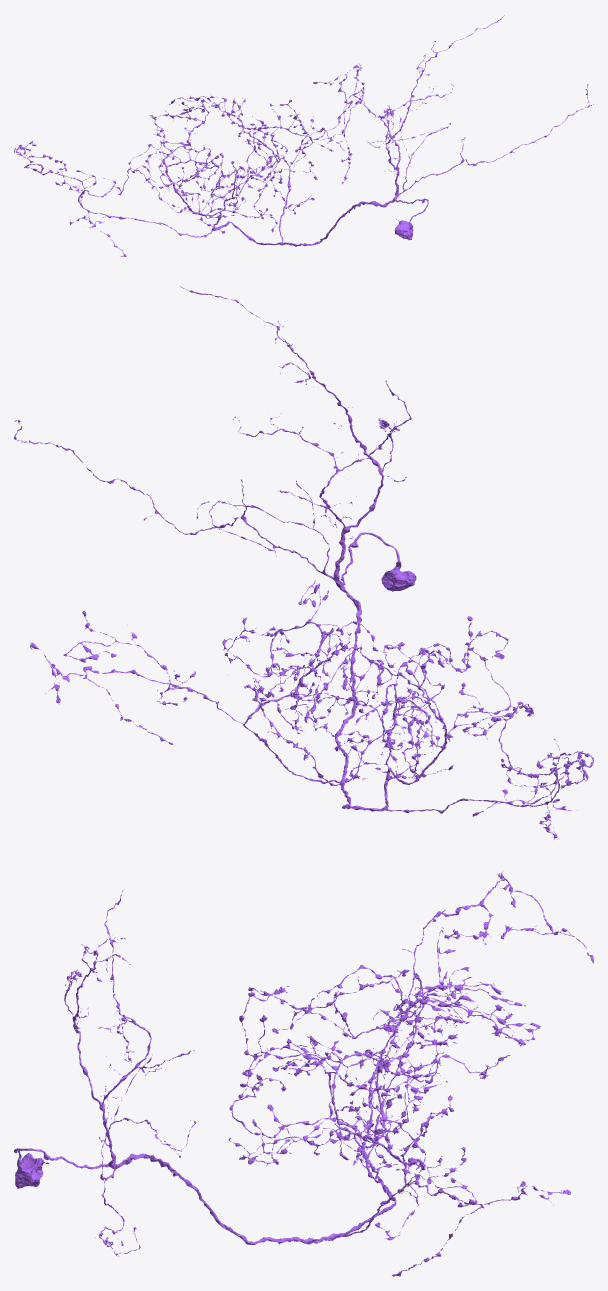
Rendered from VFB_fw036190.glb.
The picture shows the model from 3 angles, top to bottom: view 1: azimuth 30°, elevation 25°; view 2: azimuth 150°, elevation 25°; view 3: azimuth 270°, elevation 25°; orthographic projection. The views are drawn at different scales.
Visible parts, largest first — view 1: VFB_fw036190; view 2: VFB_fw036190; view 3: VFB_fw036190.
Part boxes in pixels (left/top/right/bottom): VFB_fw036190: left=14, top=15, right=593, bottom=256; VFB_fw036190: left=14, top=286, right=593, bottom=839; VFB_fw036190: left=14, top=872, right=593, bottom=1276.
Size of the model in its own units: 0.2 by 0.0966 by 0.122.
